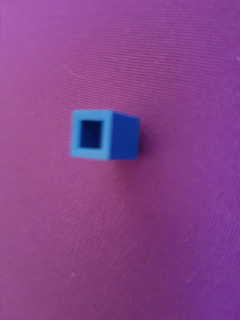1x1 blue: (66, 107, 144, 164)
